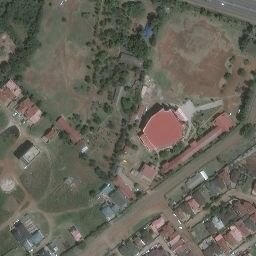tree: (120, 97, 132, 111), (149, 33, 156, 46), (143, 60, 152, 69), (103, 103, 112, 112), (58, 131, 68, 139), (224, 72, 232, 80), (237, 67, 245, 75), (106, 120, 114, 128), (88, 159, 96, 167), (14, 74, 23, 81), (84, 75, 91, 82), (123, 85, 131, 91), (89, 190, 95, 196), (89, 126, 95, 132), (132, 144, 138, 150), (81, 128, 86, 134), (244, 59, 249, 65), (85, 41, 91, 46), (134, 183, 139, 188), (61, 17, 66, 22)
